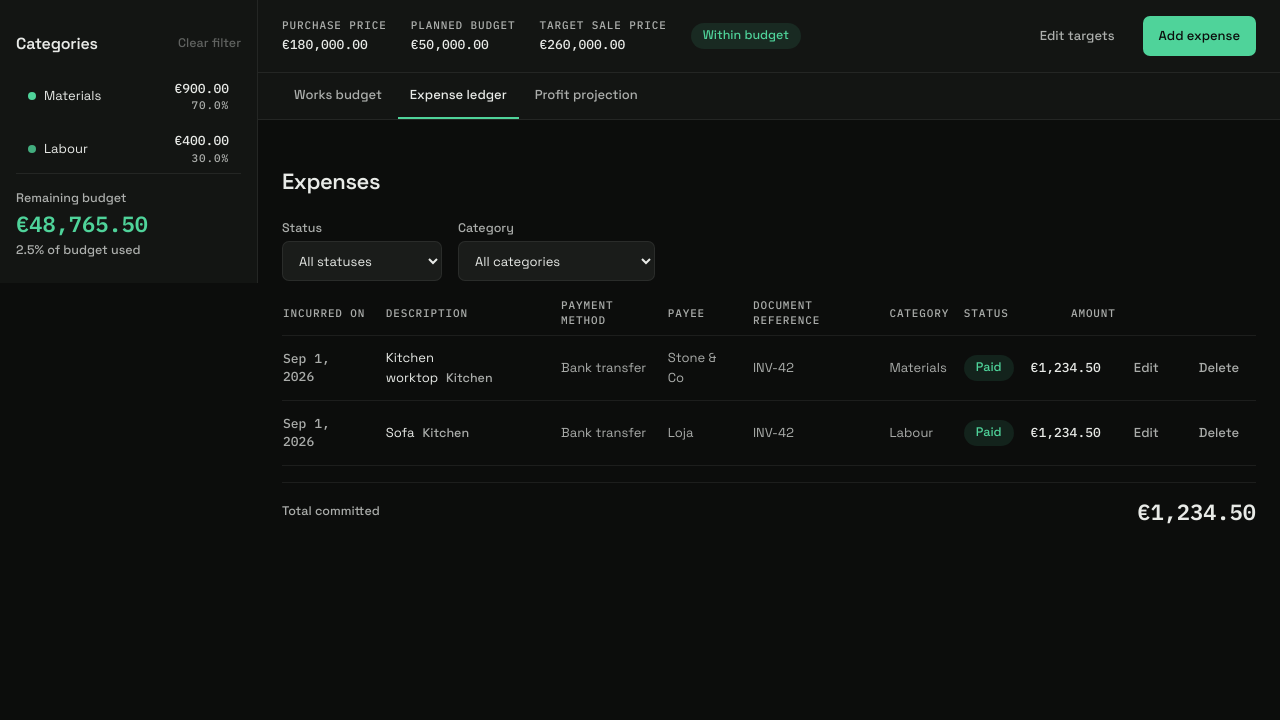
AppShell › selecting a category in the rail sets the ledger tab’s existing filter, not a second mechanism
Expected: the text "Kitchen worktop" is shown, [386,350,438,386]
Expected: the text "Sofa" is shown, [386,424,415,441]
Click the button "Labour €400.00 30.0%". click: [128, 149]
box: [16,124,241,173]
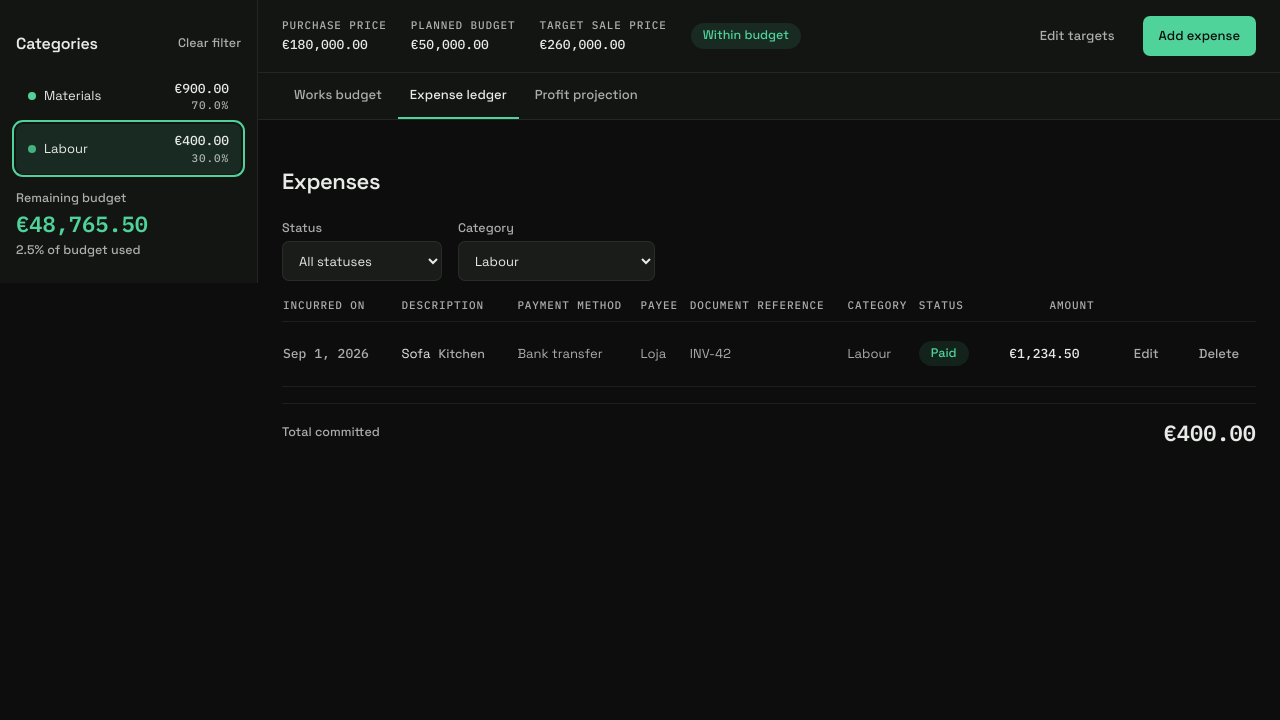
Expected: the text "Sofa" is shown, [402,345,430,362]
Result: the text "Kitchen worktop" is gone
Result: the dropdown labelled "Category" shows "Labour" at [458,241,655,281]
